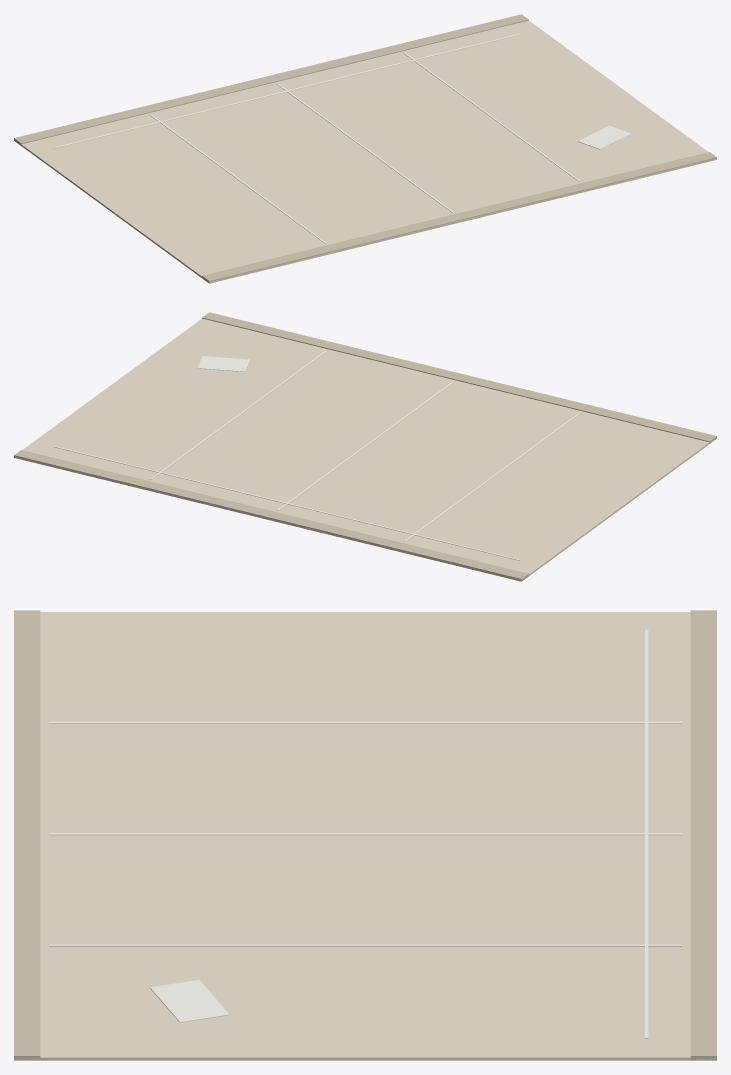
File: prop-canvas-panel-blank.fbx
3 views of the same model, one above another, from view 1: azimuth 30°, elevation 25°; view 2: azimuth 150°, elevation 25°; view 3: azimuth 270°, elevation 25° (orthographic). The views are drawn at different scales.
Parts seen in each view (by area): view 1: prop-canvas-panel-blank; view 2: prop-canvas-panel-blank; view 3: prop-canvas-panel-blank.
Part boxes in pixels (box(x1,y1,x2,y2)): prop-canvas-panel-blank: box(14, 14, 716, 283); prop-canvas-panel-blank: box(14, 312, 716, 581); prop-canvas-panel-blank: box(14, 610, 716, 1060).
Size of the model in its own units: 120 by 0.6 by 80.
